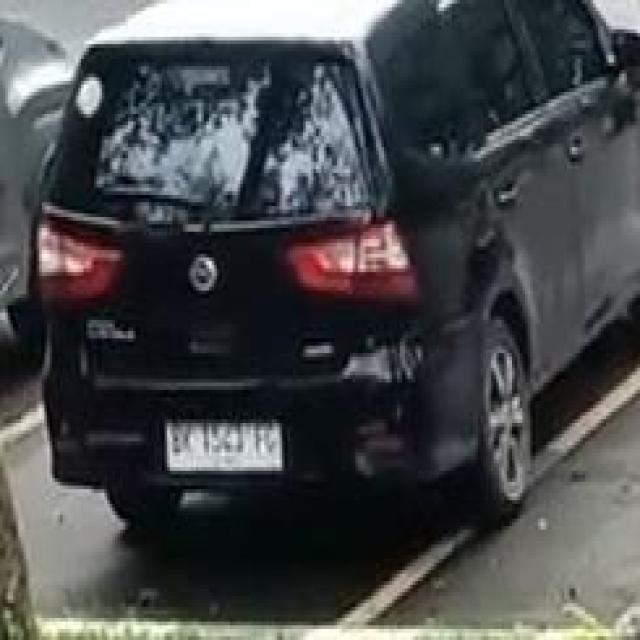Car: (49, 16, 596, 542)
